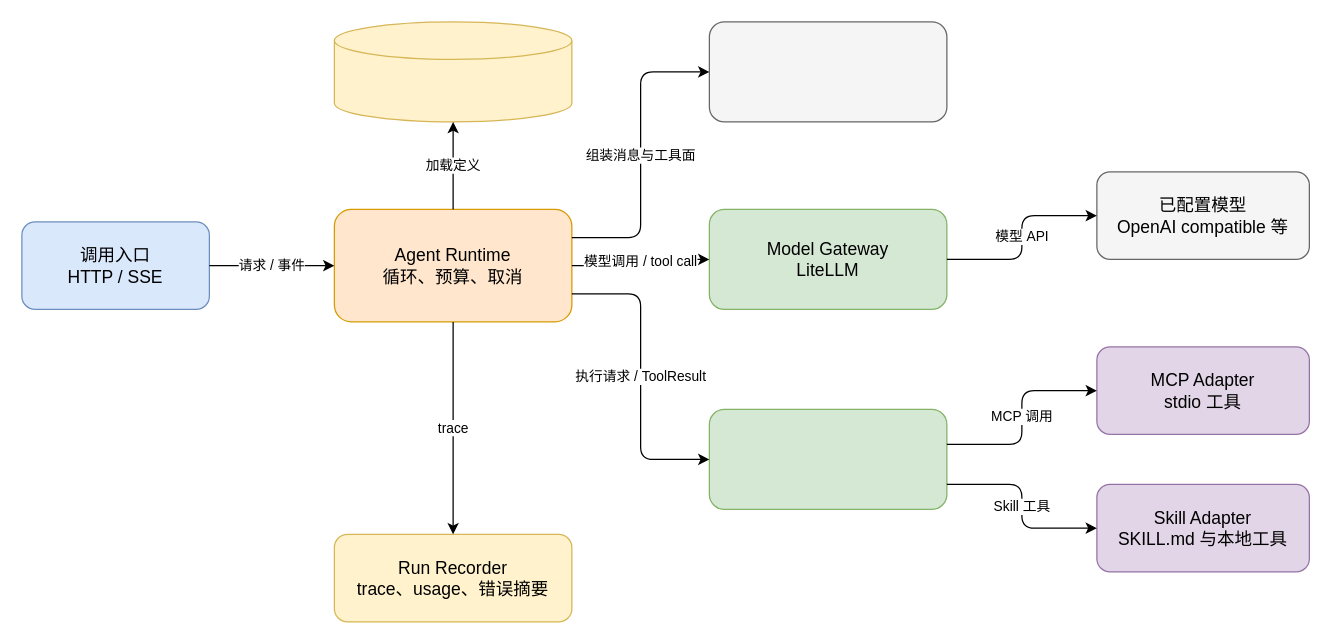
Some shapes in this 1331 by 644 pixel diagram are drawn without their labels. Each missing label, with the box of its shape:
AgentDefinition 模型、MCP、Skill 授权: (333, 21, 572, 122)
Context Builder 指令、Skill、消息: (708, 21, 947, 122)
Tool Registry / Executor allowlist、校验、超时: (708, 408, 947, 509)
